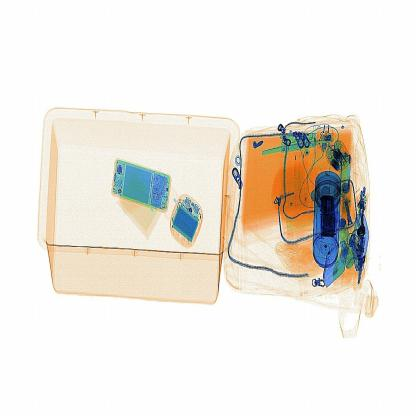scissors: (311, 188, 343, 246)
